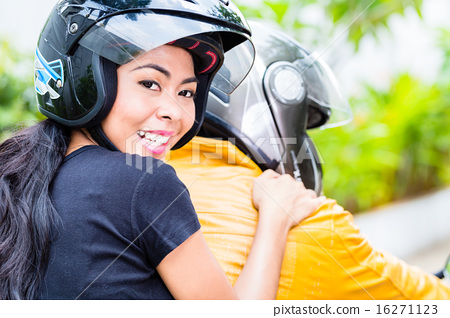helmet: (33, 3, 213, 132)
